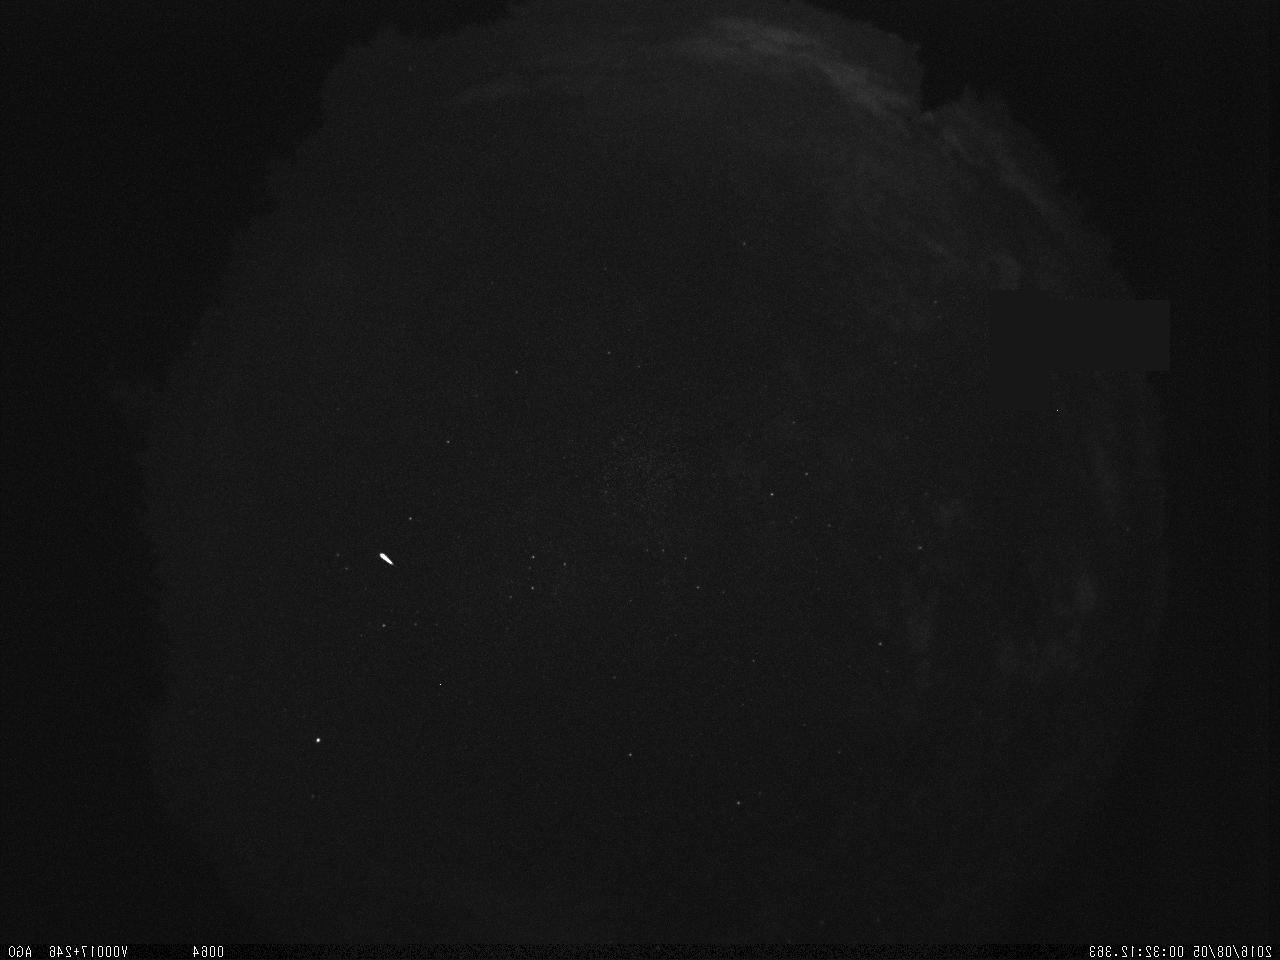meteor: (368, 548, 398, 572)
